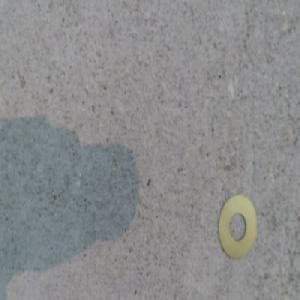Washer: (215, 194, 254, 260)
